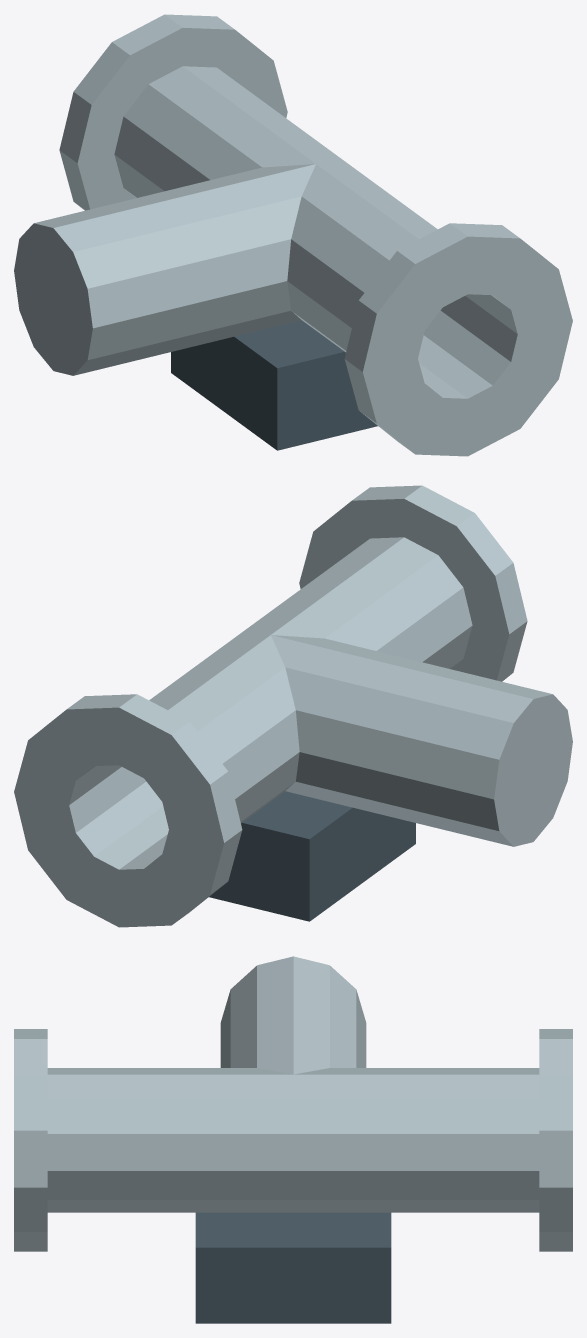
The model's file is three-port-pipe-tee.glb.
3 renders of one model, top to bottom at view 1: azimuth 30°, elevation 25°; view 2: azimuth 150°, elevation 25°; view 3: azimuth 270°, elevation 25°, orthographic. The views are drawn at different scales.
Visible parts, largest first — view 1: steel, dark; view 2: steel, dark; view 3: steel, dark.
Boxes of the visible parts, <box> form: steel: <box>14,14,572,456</box>; dark: <box>171,320,377,450</box>; steel: <box>14,485,572,927</box>; dark: <box>209,791,415,921</box>; steel: <box>14,956,572,1251</box>; dark: <box>195,1212,391,1323</box>.
Size of the model in its own units: 0.7 by 0.48 by 1.
